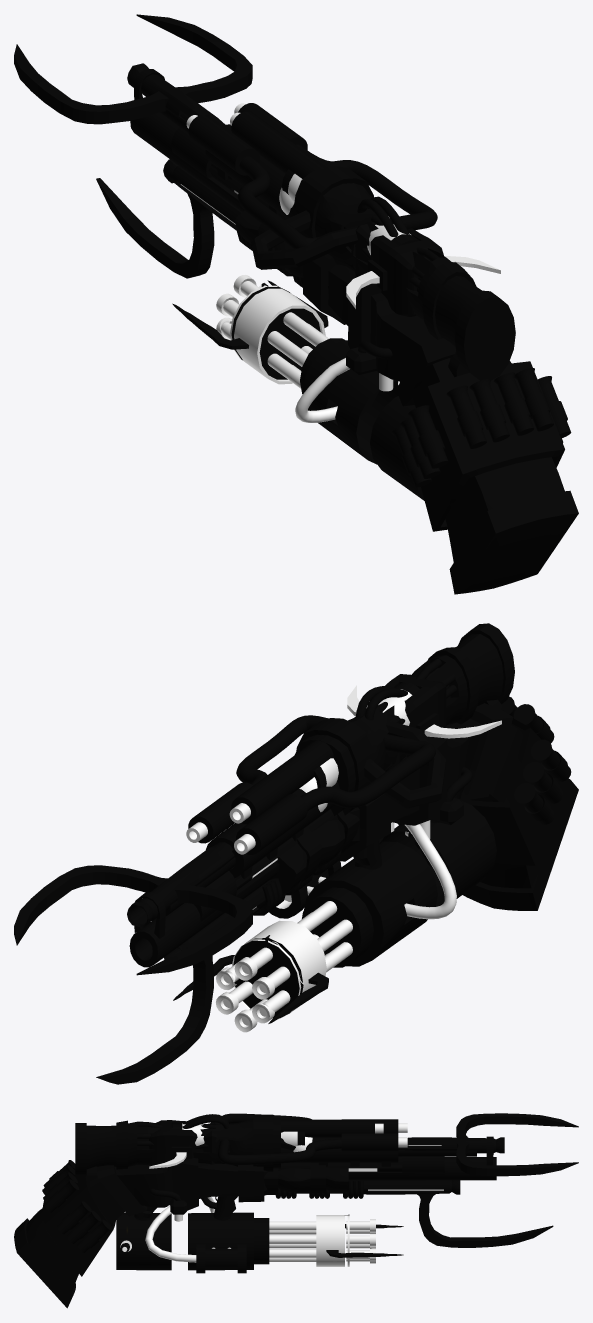
File: Metralhadora.fbx
3 renders of one model, top to bottom at view 1: azimuth 30°, elevation 25°; view 2: azimuth 150°, elevation 25°; view 3: azimuth 270°, elevation 25°, orthographic. The views are drawn at different scales.
Parts seen in each view (by area): view 1: Escopeta, Metralhadora, MiniGun, Pistola, Sniper; view 2: Escopeta, MiniGun, Metralhadora, Sniper, Pistola; view 3: Escopeta, Metralhadora, MiniGun, Sniper, Pistola.
Boxes of the visible parts, x1,y1,x2,y2 form: Escopeta: [14, 14, 578, 594]; Metralhadora: [160, 103, 515, 380]; MiniGun: [172, 275, 424, 500]; Pistola: [279, 187, 500, 405]; Sniper: [171, 127, 469, 377]; Escopeta: [14, 696, 578, 1084]; MiniGun: [173, 767, 496, 1032]; Metralhadora: [165, 623, 514, 915]; Sniper: [194, 682, 503, 921]; Pistola: [299, 674, 501, 812]; Escopeta: [14, 1113, 578, 1308]; Metralhadora: [75, 1113, 476, 1220]; MiniGun: [116, 1188, 403, 1273]; Sniper: [86, 1123, 444, 1195]; Pistola: [136, 1114, 312, 1217].
Size of the model in its own units: 45.3 by 70.29 by 195.
